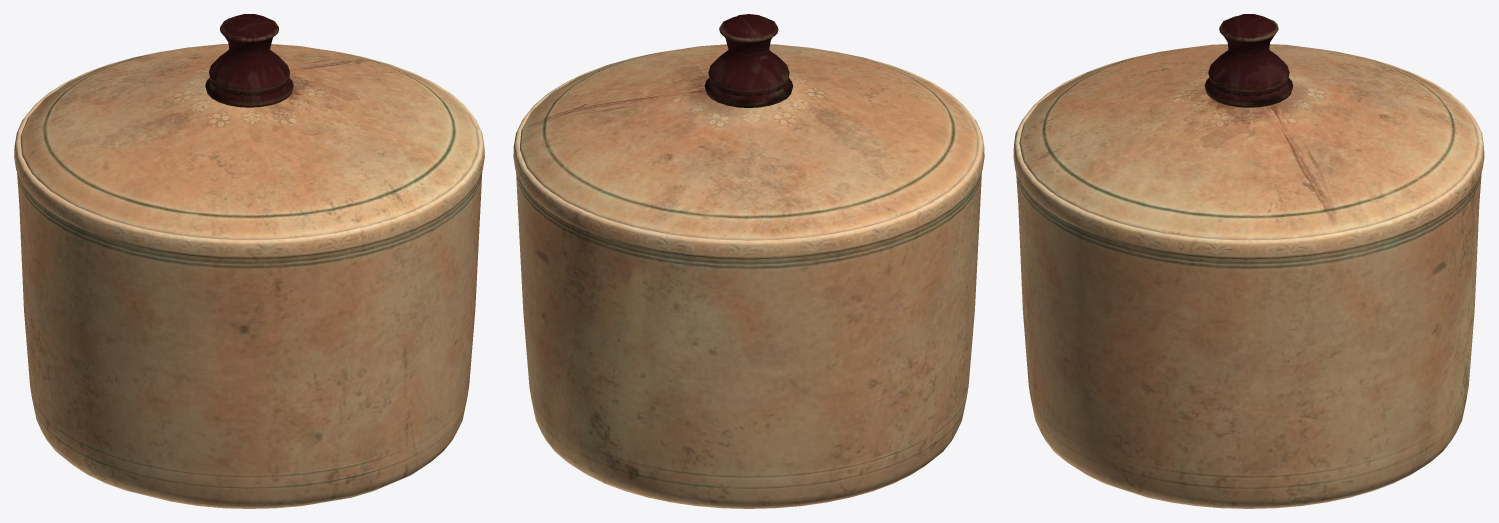
File: brass_pot_01.glb
3 views of the same model, side by side, from view 1: azimuth 30°, elevation 25°; view 2: azimuth 150°, elevation 25°; view 3: azimuth 270°, elevation 25° (orthographic).
Visible parts, largest first — view 1: brass_pot_01; view 2: brass_pot_01; view 3: brass_pot_01.
Boxes of the visible parts, x1,y1,x2,y2 form: brass_pot_01: (14, 14, 484, 508); brass_pot_01: (513, 14, 984, 508); brass_pot_01: (1013, 14, 1484, 508).
Bounding box in the file's own units: 0.3019 × 0.2909 × 0.3017.
1 material, 1 textured.
